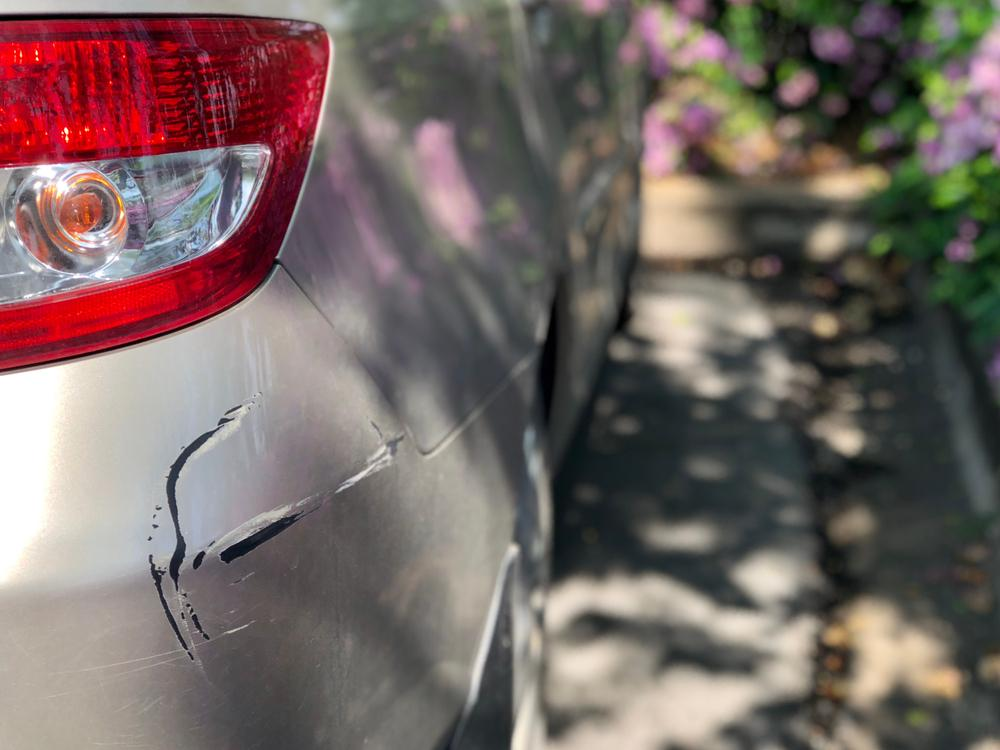scratch: (142, 390, 413, 697)
